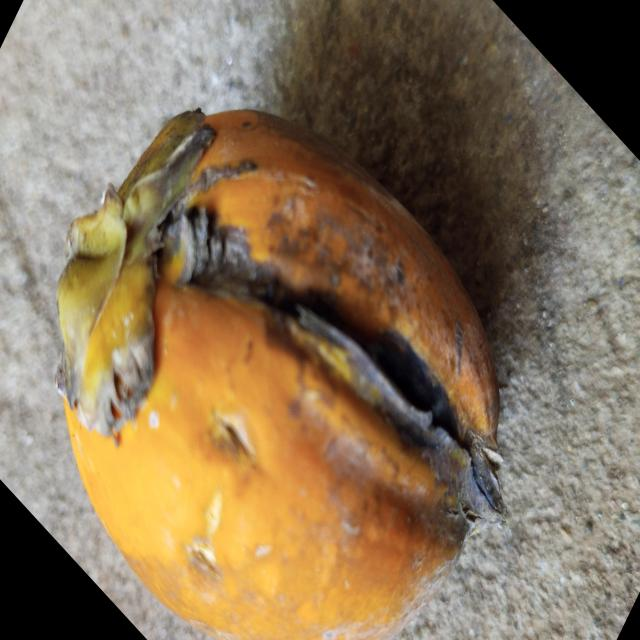damaged: (57, 110, 504, 640)
